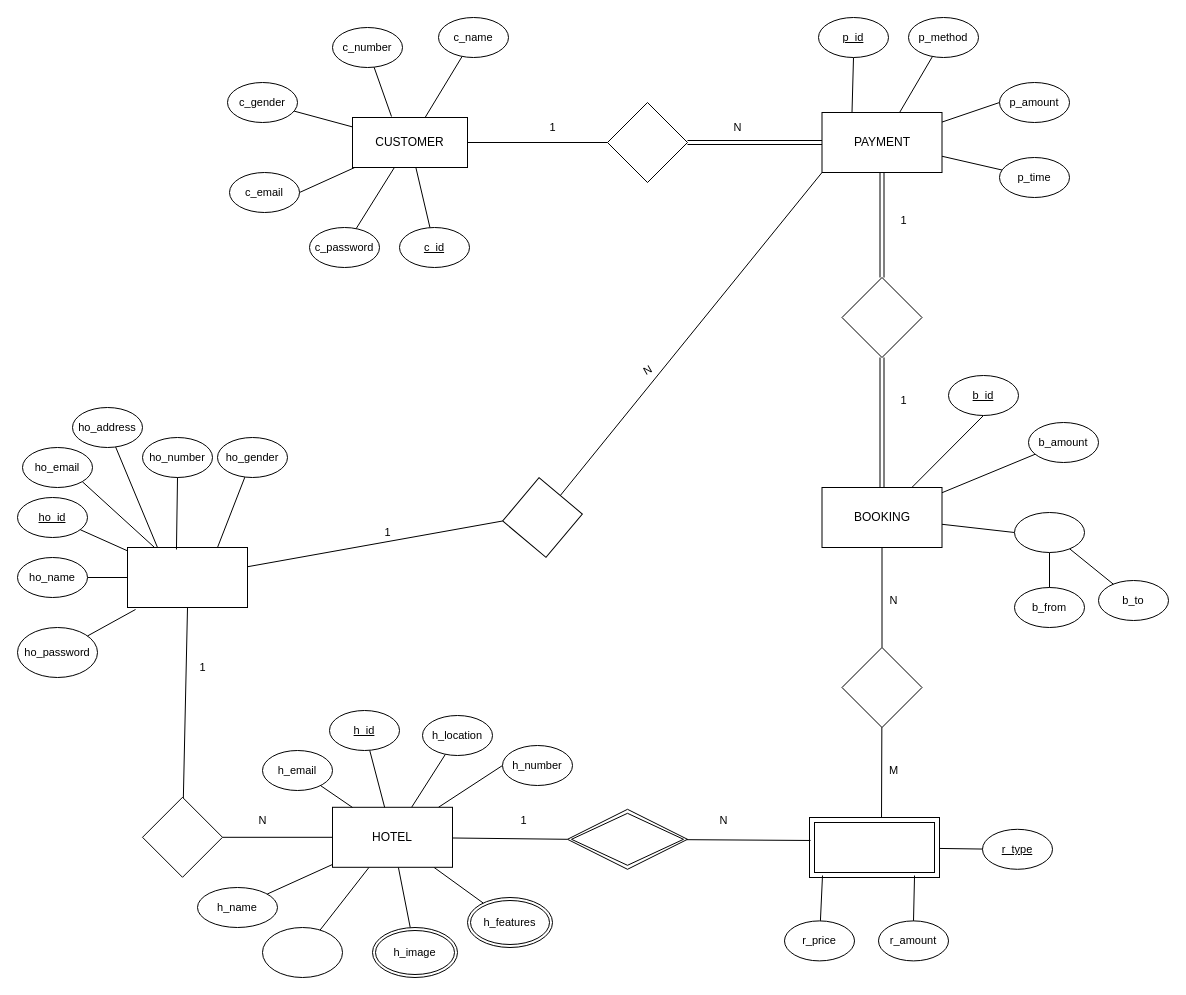
Image size: 1186x995. Some labels were removed from this diagram. Here are the shapes that lost their labels. From the top down, the centre of each, then its label:
At (647,142): "MAKE".
At (881,317): "CONFIRMS".
At (542,517): "COLLECTS".
At (1049,532): "b_bookings".
At (187,577): "HOTEL_OWNER".
At (881,687): "BOOKS".
At (182,836): "OWNS".
At (627,838): "HAS".
At (874,847): "ROOM".
At (302,952): "h_description".
